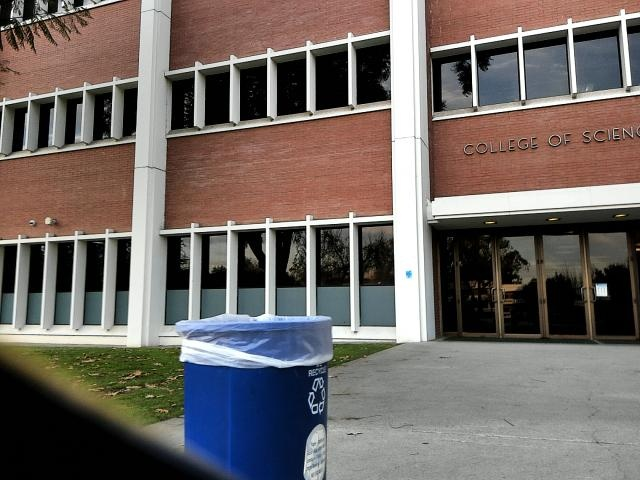trashcan_open: (174, 306, 339, 480)
